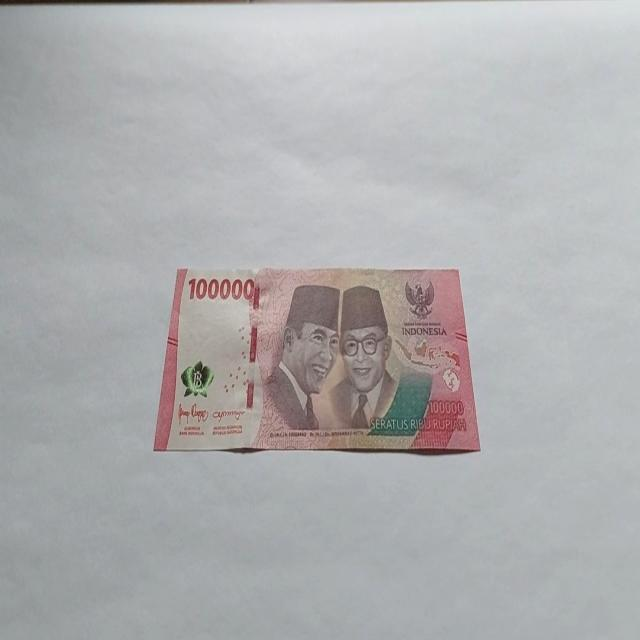seratus ribu rupiah: (153, 264, 481, 455), (255, 282, 341, 444)
